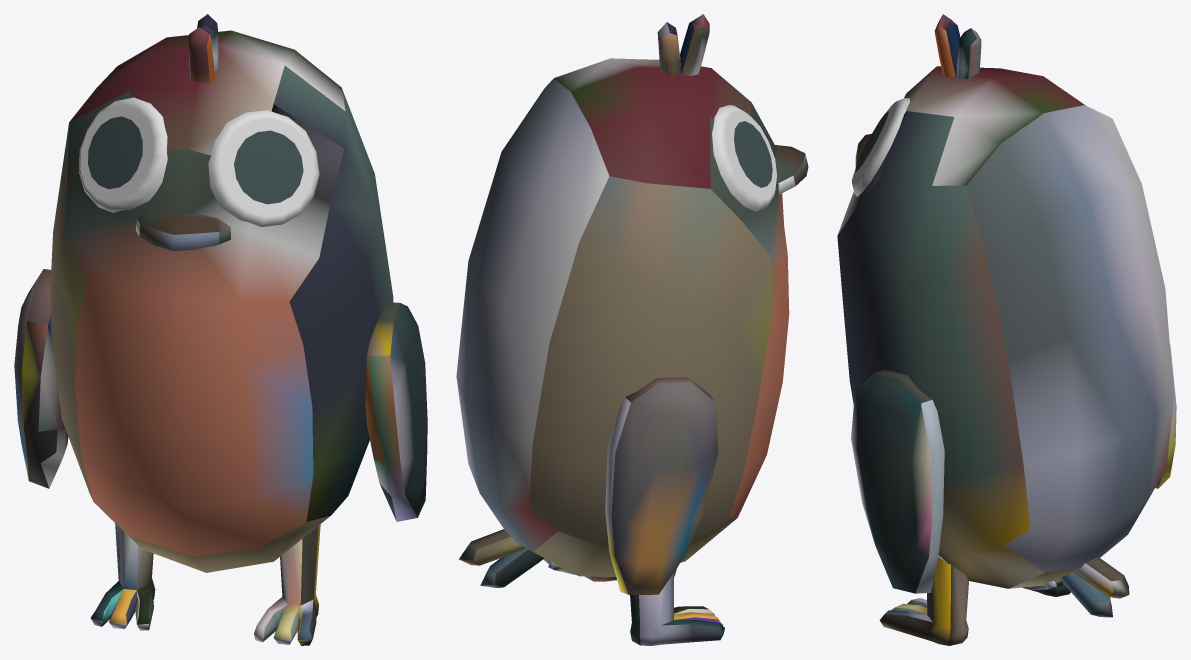
The model's file is Penguin.glb.
3 renders of one model, left to right at view 1: azimuth 30°, elevation 25°; view 2: azimuth 150°, elevation 25°; view 3: azimuth 270°, elevation 25°, orthographic. The views are drawn at different scales.
Parts seen in each view (by area): view 1: 121; view 2: 121; view 3: 121.
Boxes of the visible parts, x1,y1,x2,y2 form: 121: (14, 14, 427, 645); 121: (456, 14, 808, 645); 121: (837, 14, 1176, 645).
Size of the model in its own units: 0.4122 by 0.7579 by 0.4041.
